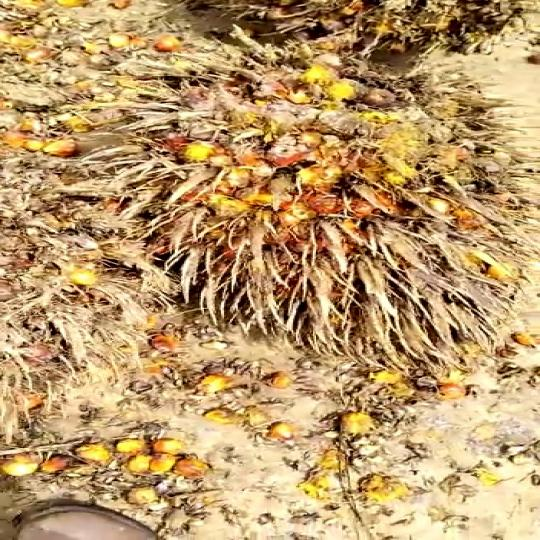terlalu masak: (55, 39, 540, 350)
